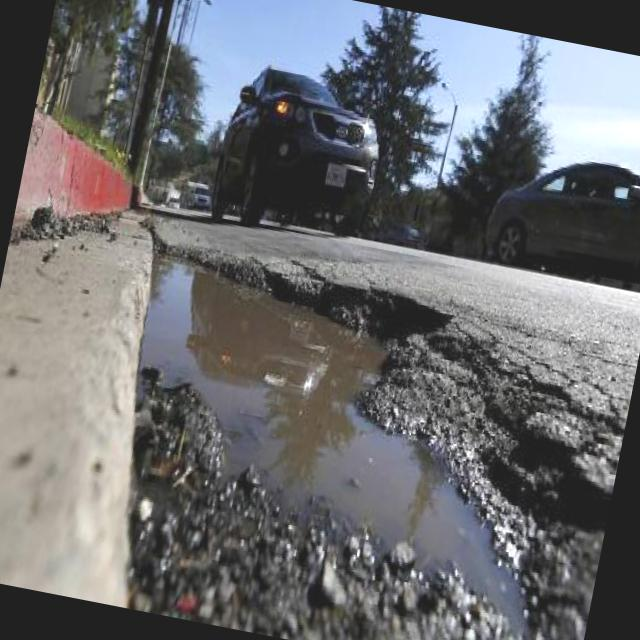Lubang: (125, 240, 618, 640)
